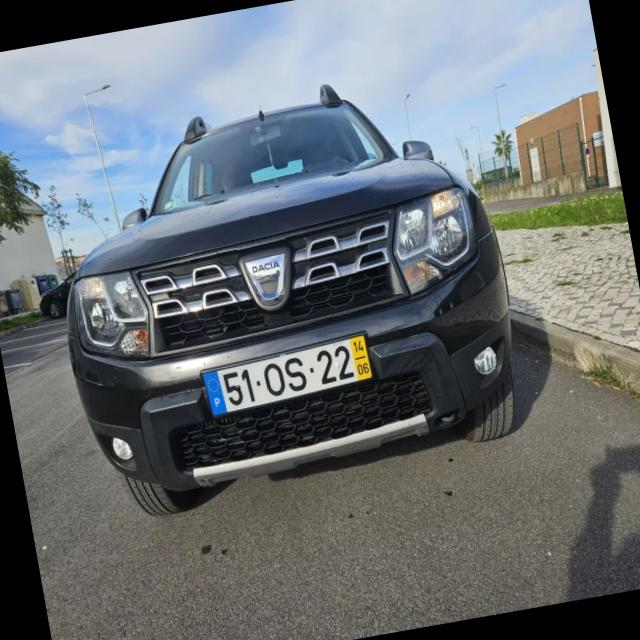portuguese-license-plates: (196, 332, 376, 429)
